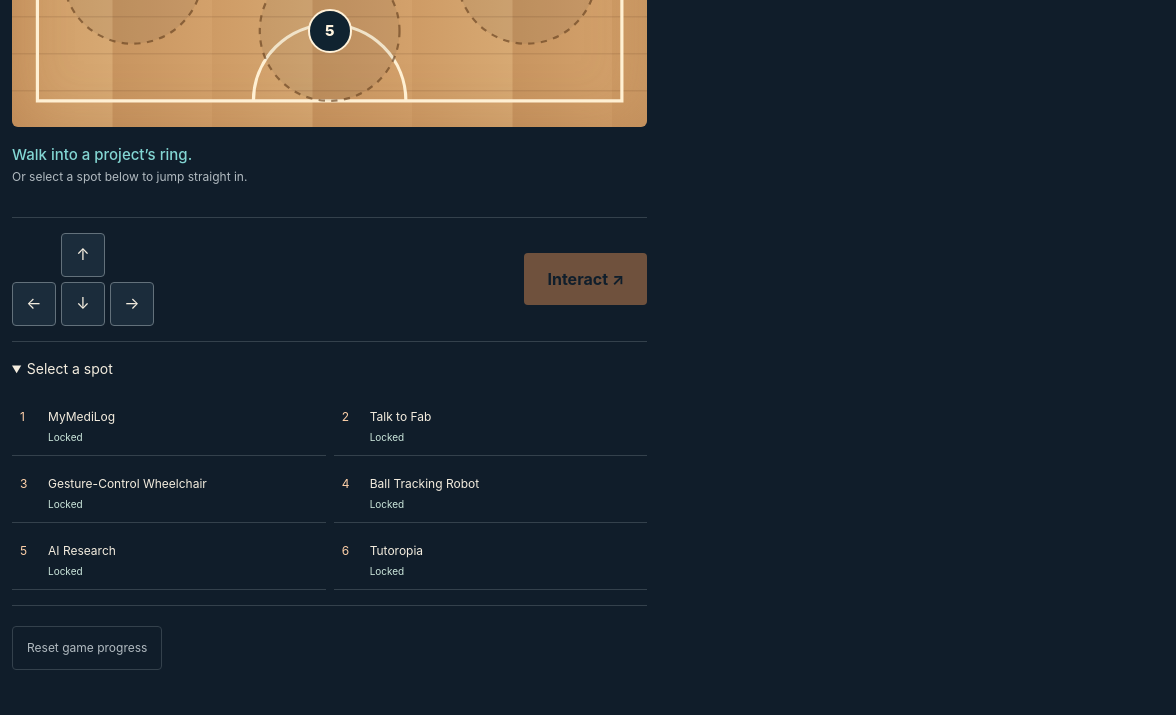
it: shooting UI › hiding the tab cancels the attempt without a miss and permits restart
The image size is (1176, 715).
(page scrolled)
Click the button "2 Talk to Fab Locked" at (401, 416), box [334,397,647,456]
(page scrolled)
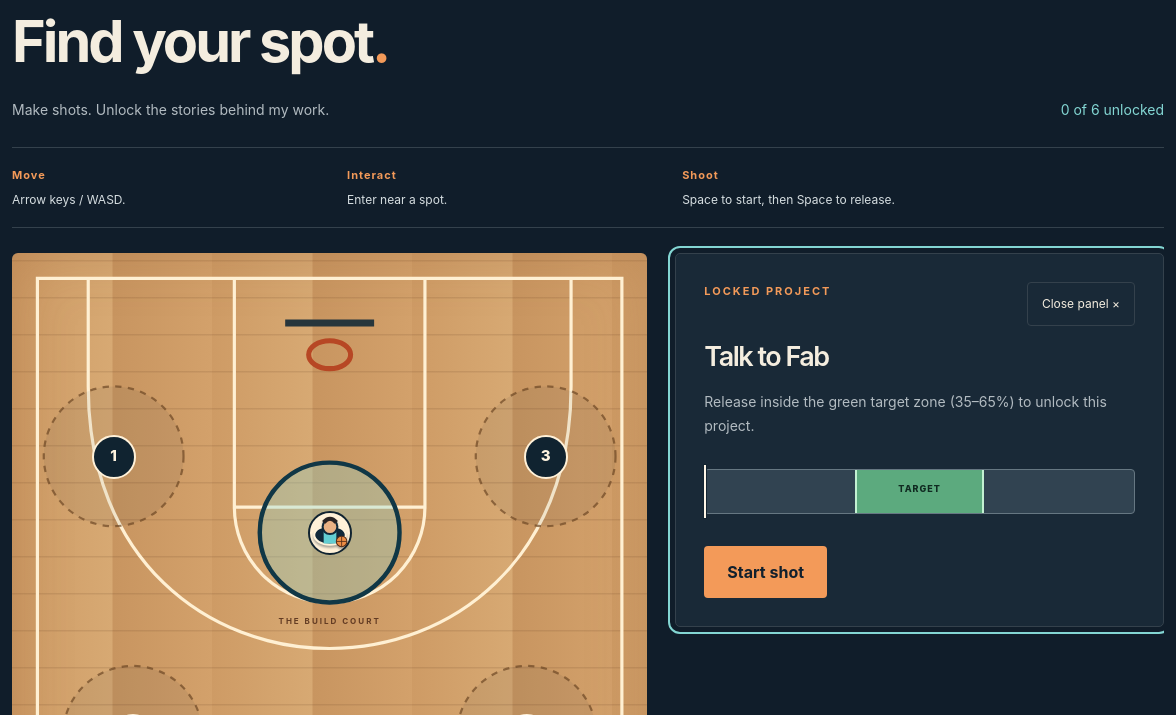
Click the button "Start shot" at (766, 572), box [704,546,827,598]
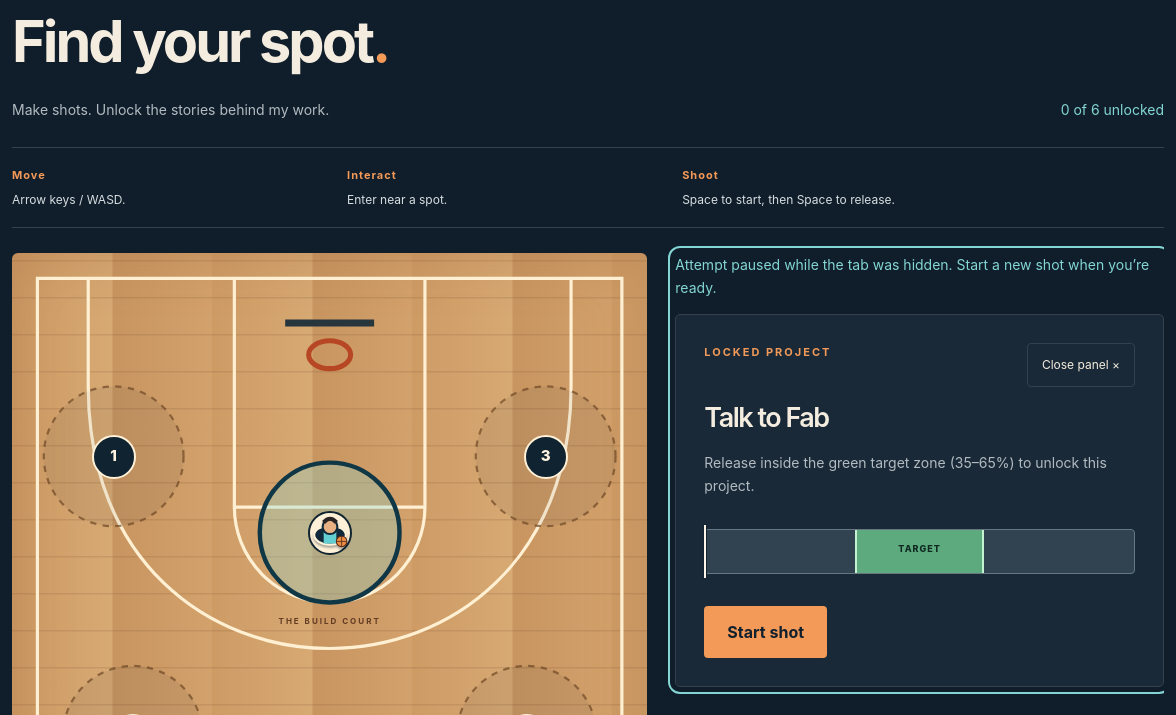
Expected: the text "Attempt paused while the tab was hidden. Start a new shot when you’re ready." is shown, [675,253,1164,300]
Click the button "Start shot" at (766, 632), box [704,606,827,658]
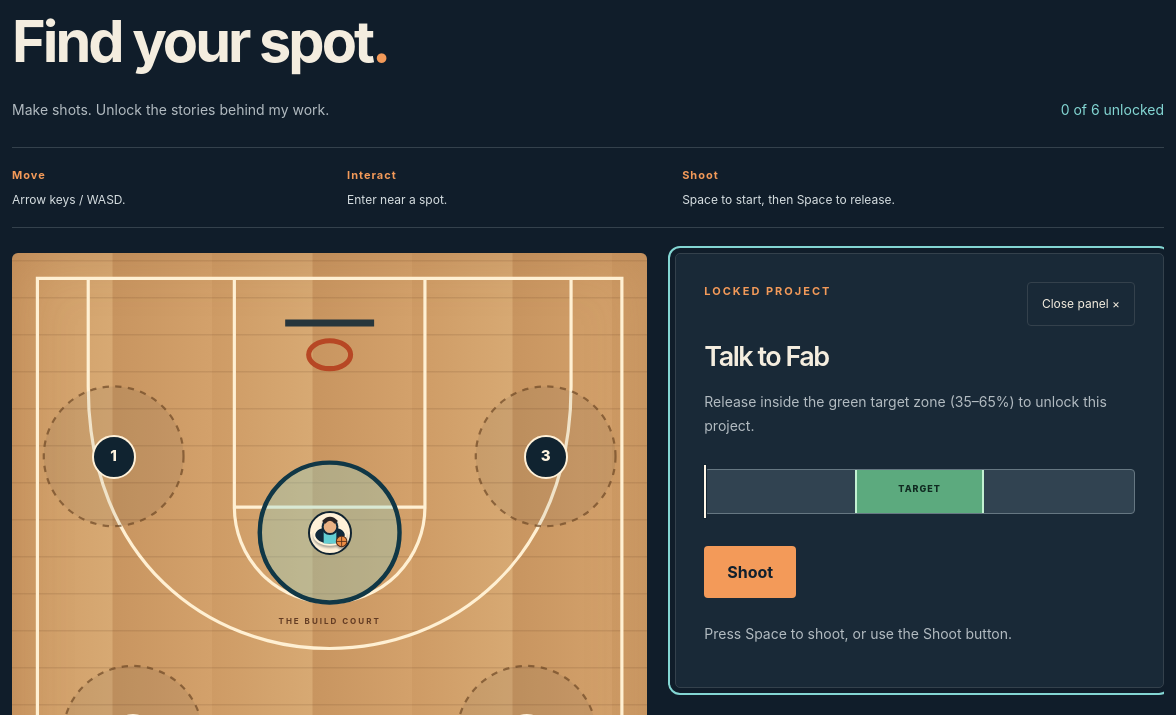
Expected: the button "Shoot" is shown, [704,546,796,598]
